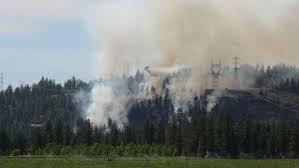smoke: (75, 1, 297, 133)
